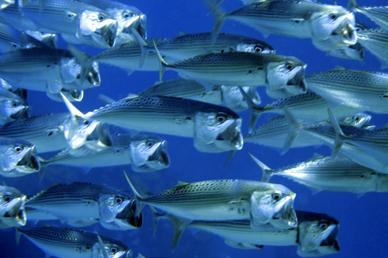Scombridae -Tunas-: (57, 87, 247, 152), (121, 170, 304, 232), (149, 38, 308, 96), (22, 176, 147, 231), (0, 0, 115, 49)
